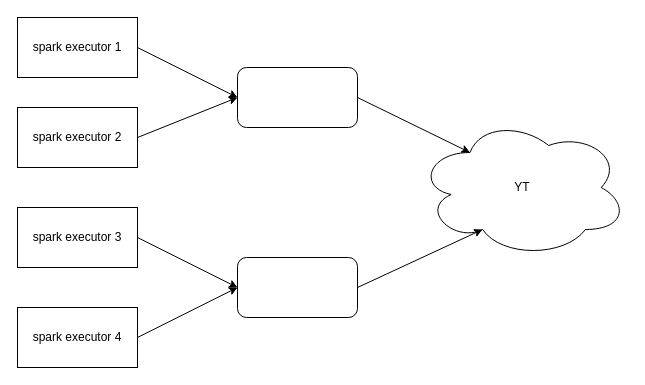
Image size: 645x385. Some labels were removed from this diagram. The shapes that lost their labels are listed below. From the top down, each one's box as (x1, y1, x2, y2) in pixels, then its label:
(236, 66, 358, 128): YT Proxy 1
(236, 256, 358, 318): YT Proxy 2
